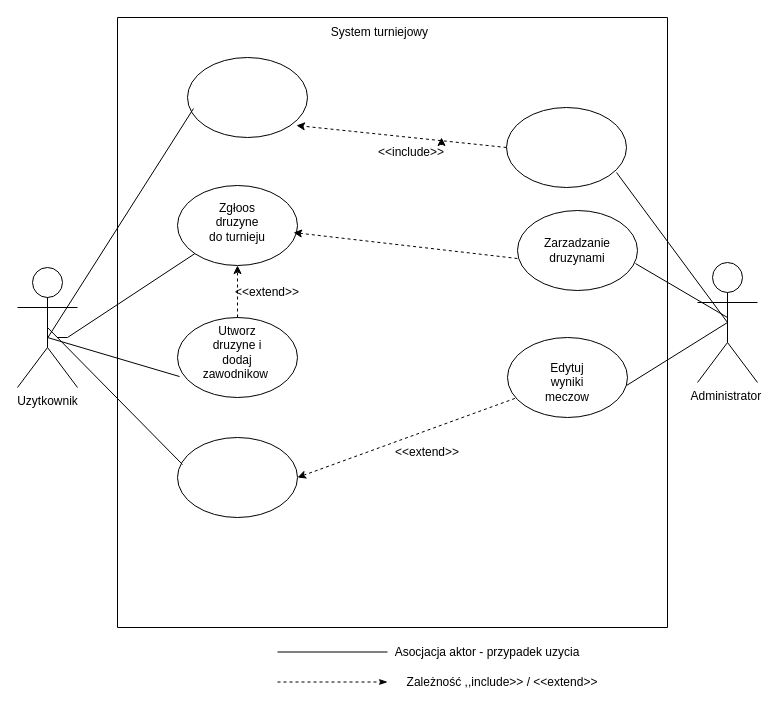
The diagram is 782 pixels wide and 715 high, and some of its shapes have lost their labels. The centre of each missing label's shape, as x and y in pixels:
"Przegladaj drabinki i rankingi" goes at (x=237, y=477).
"Przegladaj liste turniejow" goes at (x=247, y=97).
"Zarzadzaj turniejami" goes at (x=566, y=147).
